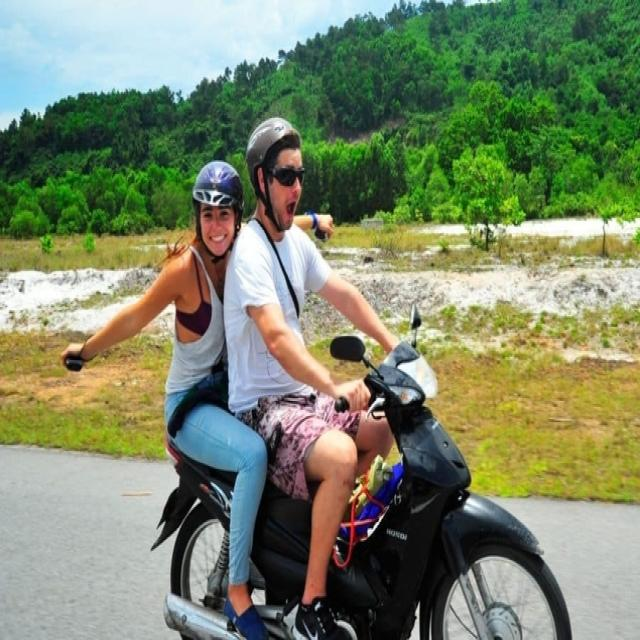helmet: (246, 118, 302, 192), (193, 161, 243, 212)
